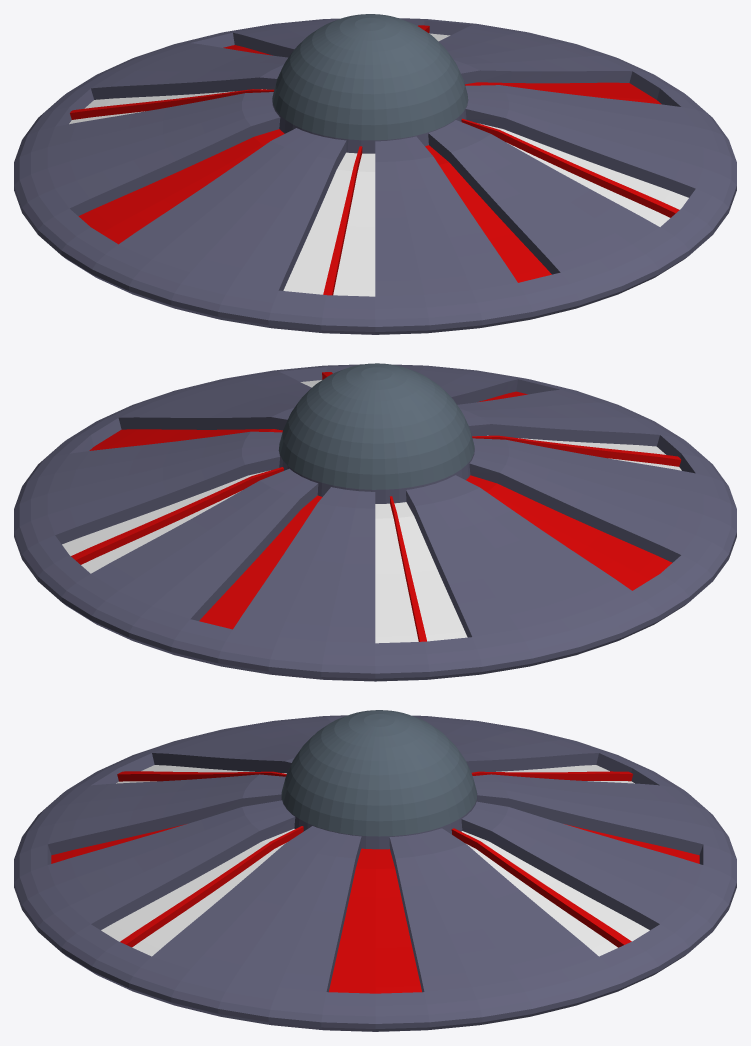
Rendered from unie jack ufo.fbx.
The picture shows the model from 3 angles, top to bottom: view 1: azimuth 30°, elevation 25°; view 2: azimuth 150°, elevation 25°; view 3: azimuth 270°, elevation 25°; orthographic projection.
Parts seen in each view (by area): view 1: unie_jack_ufo; view 2: unie_jack_ufo; view 3: unie_jack_ufo.
Part boxes in pixels (left/top/right/bottom): unie_jack_ufo: left=14, top=14, right=736, bottom=334; unie_jack_ufo: left=14, top=363, right=736, bottom=681; unie_jack_ufo: left=14, top=710, right=736, bottom=1031.
Bounding box in the file's own units: 5.93 × 1.75 × 5.91.
